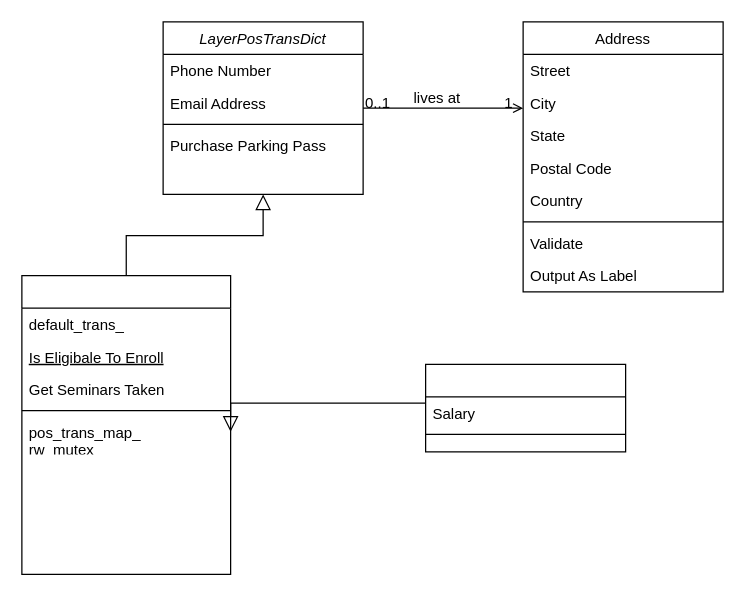
This 745x596 diagram has some shape labels left out. Each missing label, with the box of its shape:
PosTransDict: (21, 274, 231, 574)
Professor: (424, 363, 626, 452)
